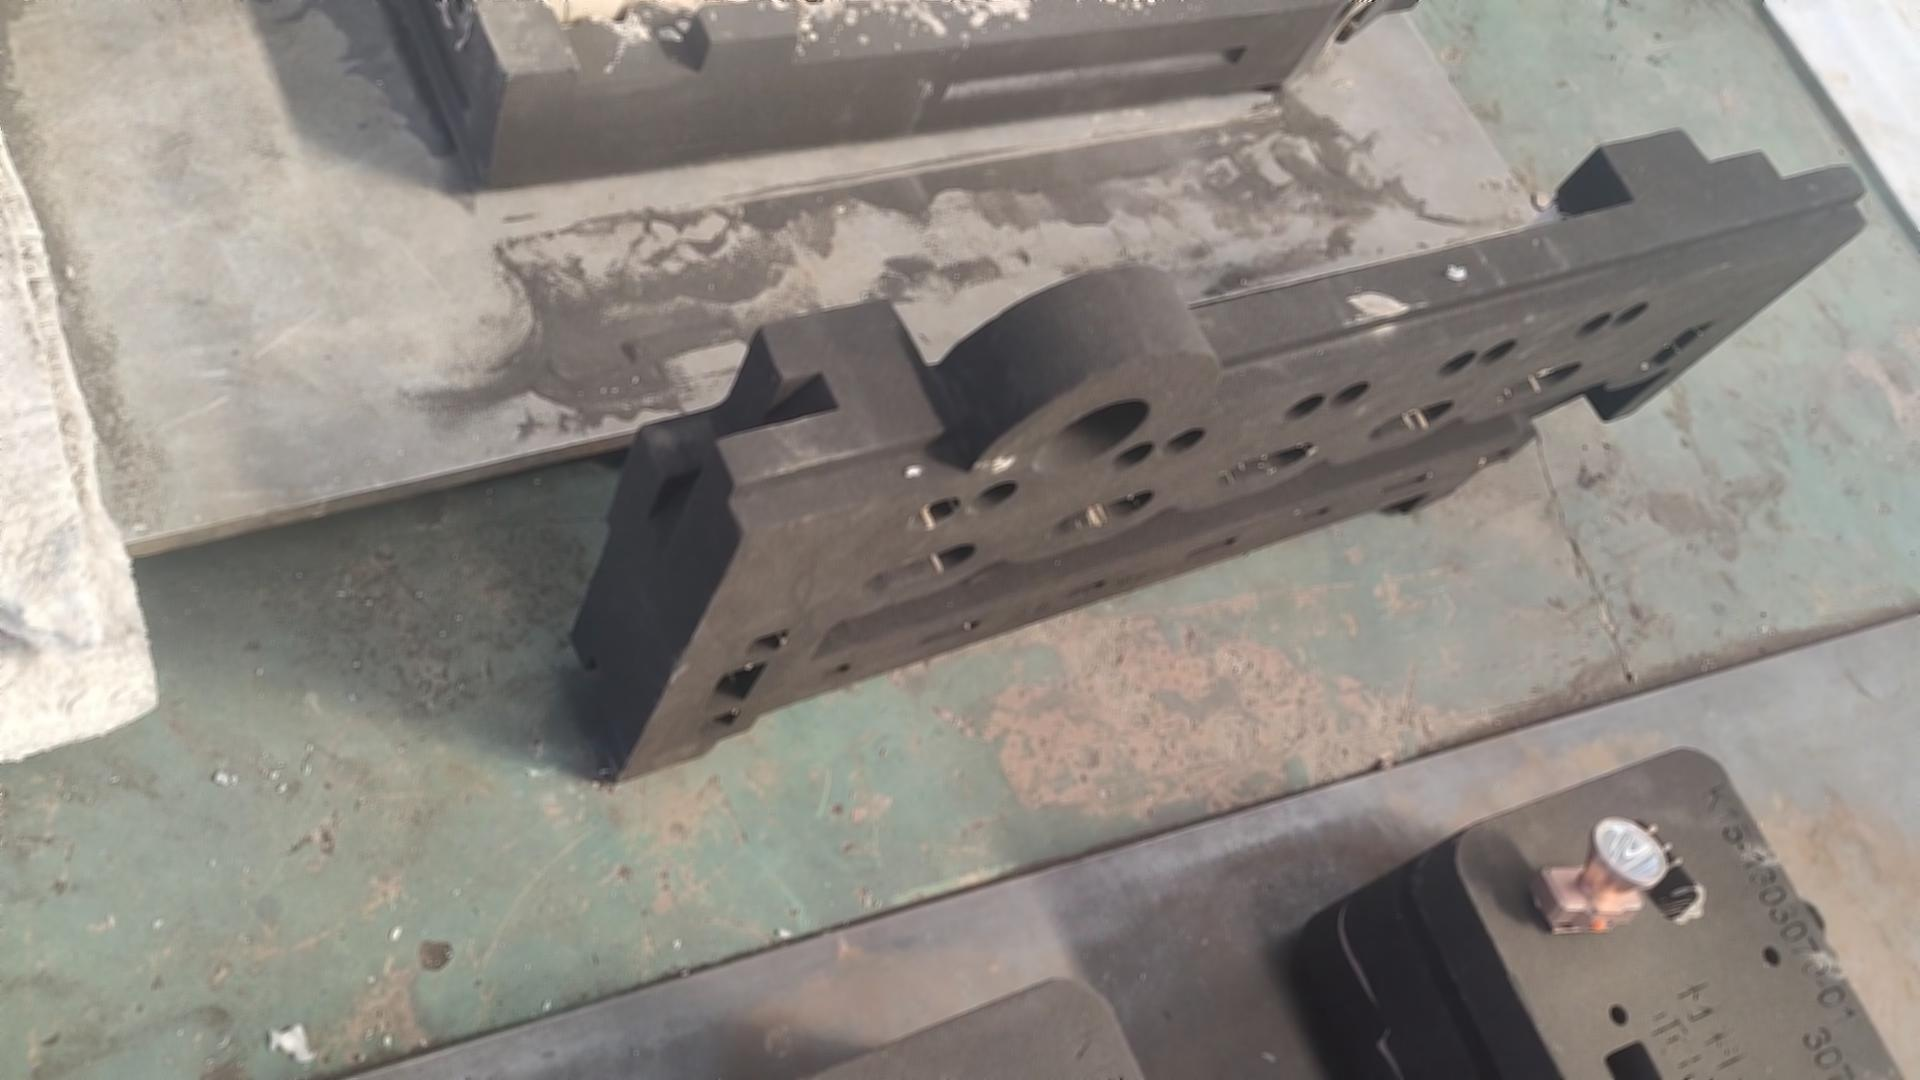pouring hole: (1033, 397, 1150, 472)
